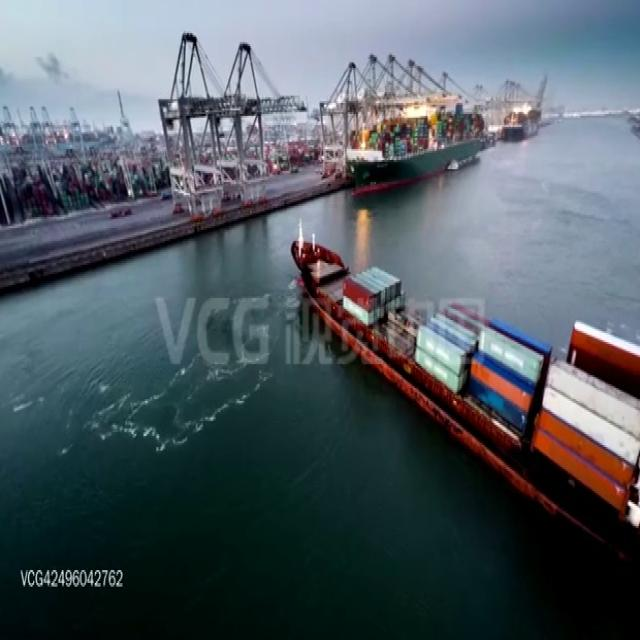cargoship: (288, 213, 640, 552)
